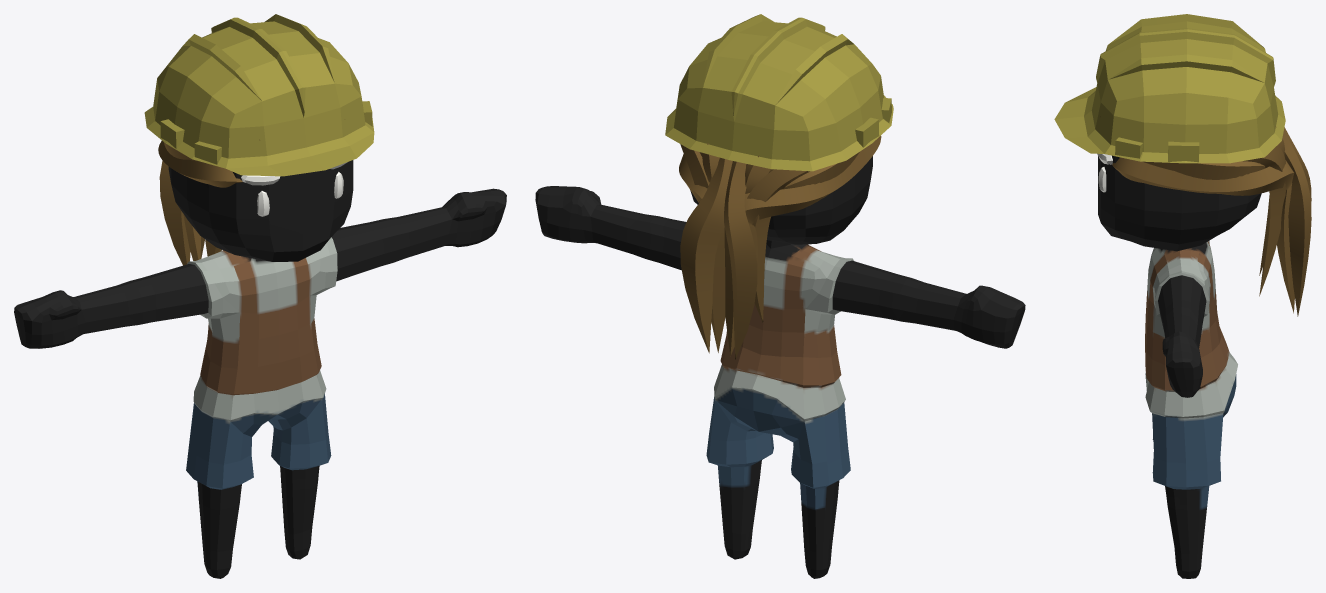
File: Worker_Female.fbx
3 renders of one model, left to right at view 1: azimuth 30°, elevation 25°; view 2: azimuth 150°, elevation 25°; view 3: azimuth 270°, elevation 25°, orthographic.
Visible parts, largest first — view 1: Body; view 2: Body; view 3: Body.
Part boxes in pixels (x1,y1,x2,y2): Body: (14, 14, 506, 578); Body: (535, 14, 1025, 578); Body: (1054, 14, 1311, 578).
Size of the model in its own units: 324 by 343 by 151.
Materials: 1 (1 with a texture image).
